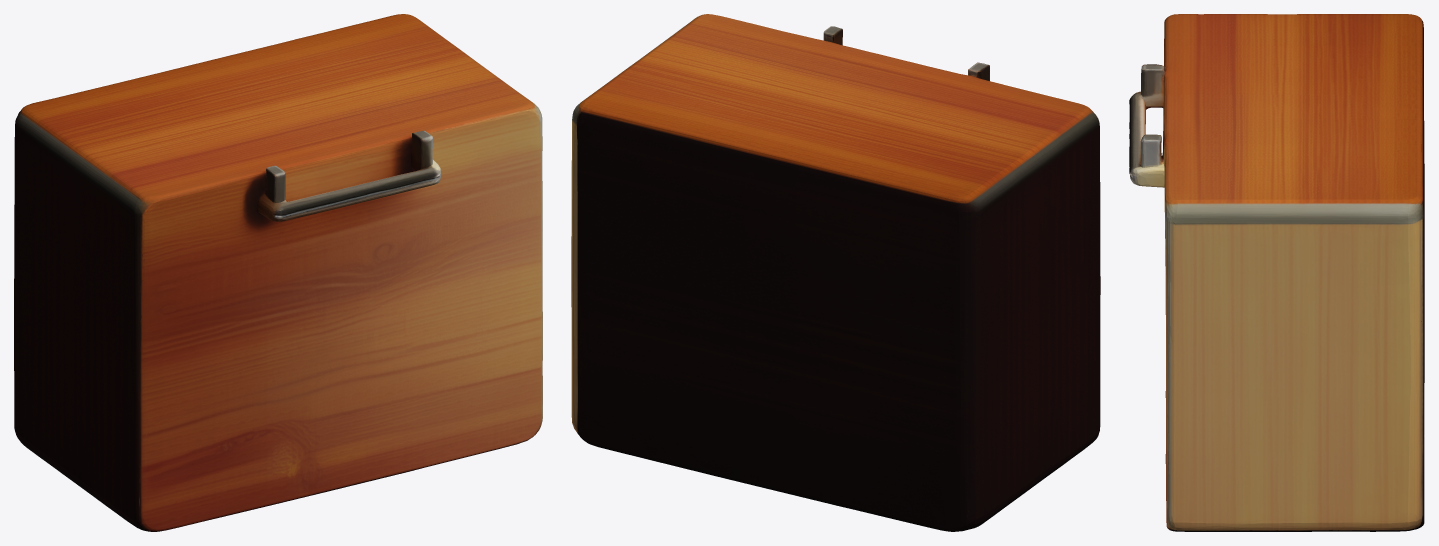
The model's file is bamboo-clipboard-3d.jpeg.glb.
3 views of the same model, side by side, from view 1: azimuth 30°, elevation 25°; view 2: azimuth 150°, elevation 25°; view 3: azimuth 270°, elevation 25° (orthographic).
Parts seen in each view (by area): view 1: world; view 2: world; view 3: world.
Boxes of the visible parts, box(x1,y1,x2,y2) form: world: box(14, 14, 542, 531); world: box(571, 14, 1100, 531); world: box(1129, 14, 1424, 531).
Size of the model in its own units: 1 by 0.8023 by 0.6343.
Materials: 1 (1 with a texture image).
